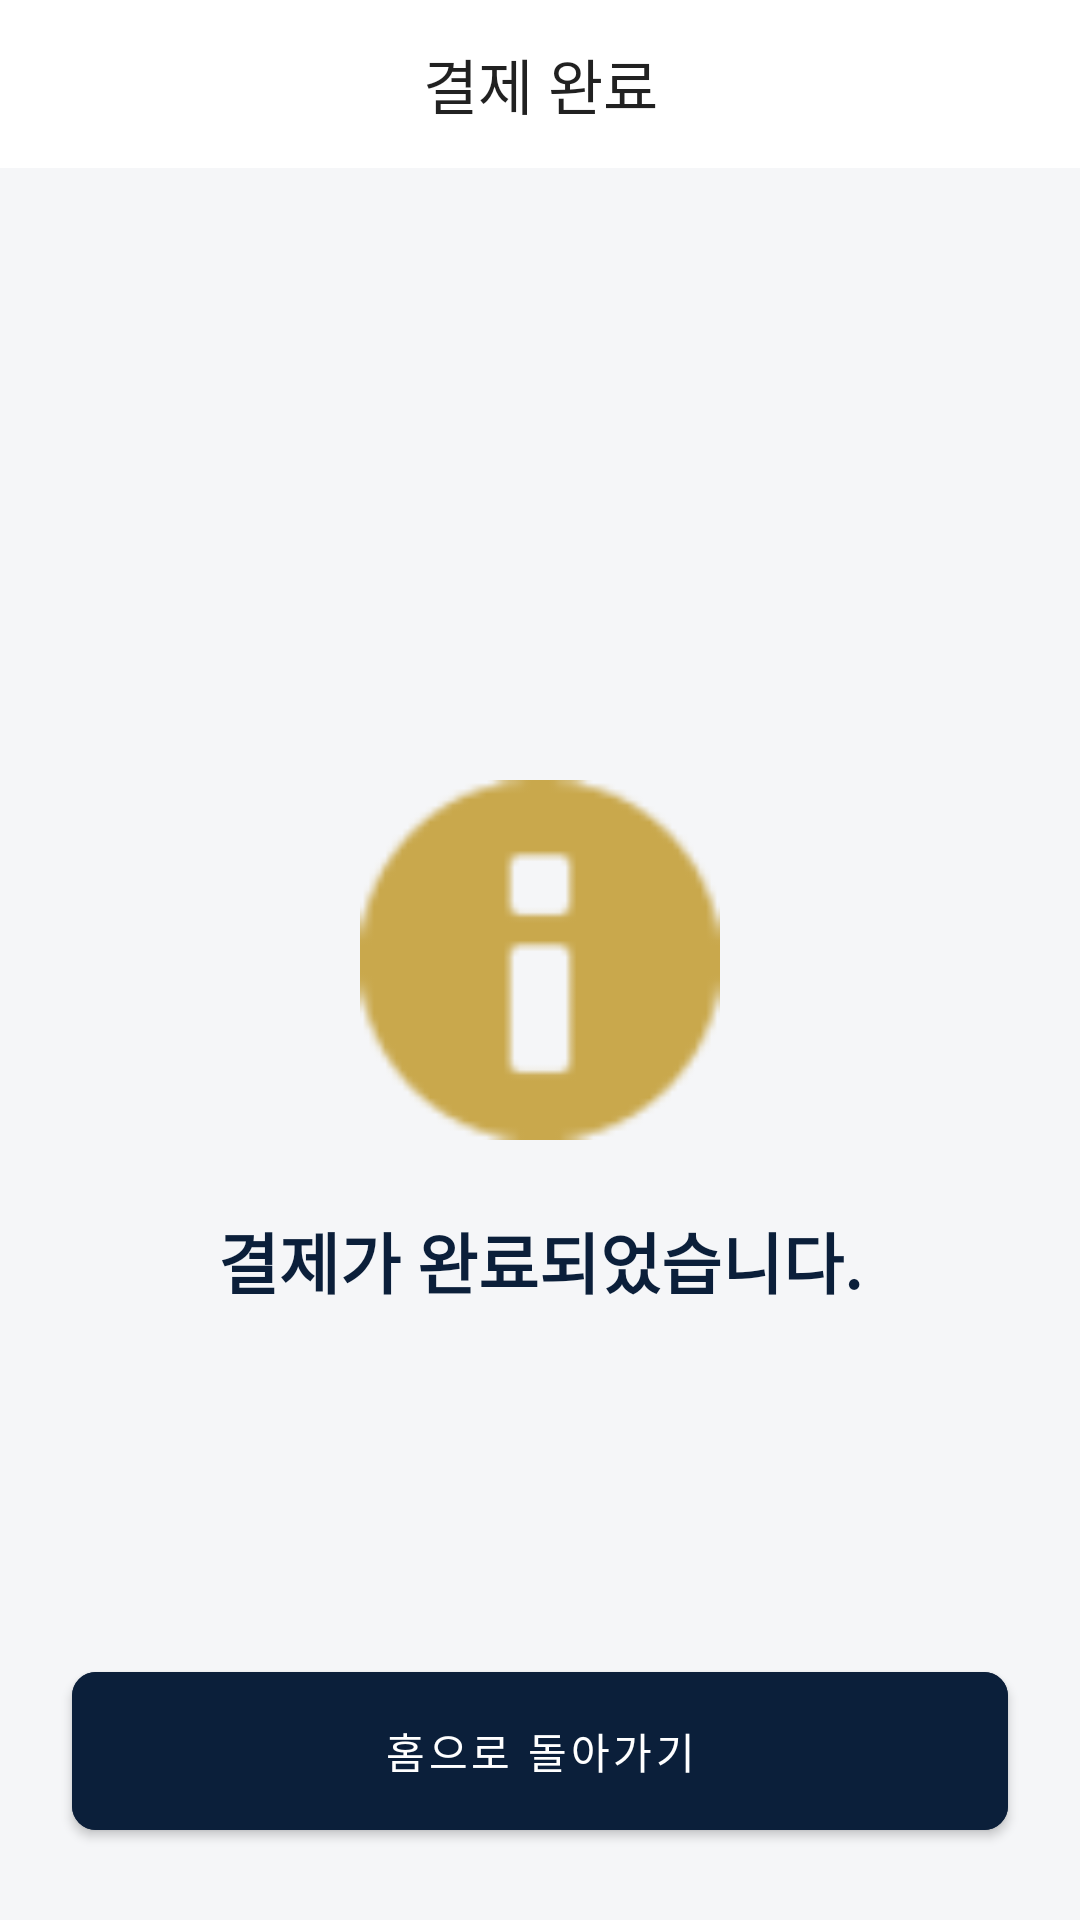

Where to tap for icons on this 1080px×1920px app screen, as (x=x, y=y):
info: (x=540, y=960)
